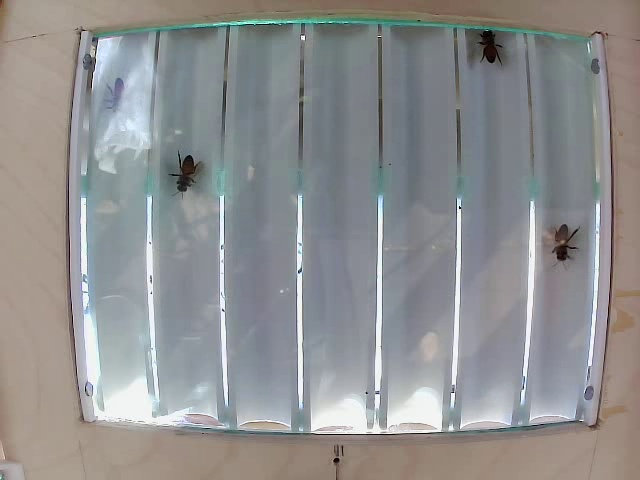bee: (165, 156, 219, 204), (544, 212, 579, 254), (99, 80, 145, 109), (479, 22, 499, 80)
